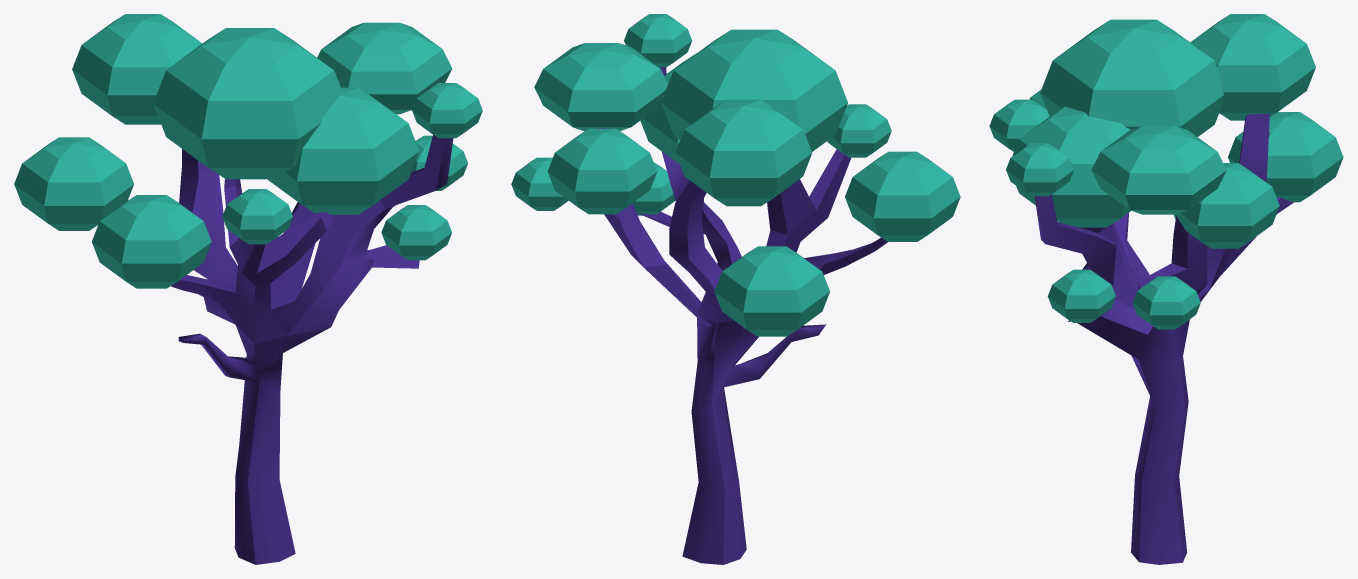
File: arbolNoche2.fbx
3 views of the same model, side by side, from view 1: azimuth 30°, elevation 25°; view 2: azimuth 150°, elevation 25°; view 3: azimuth 270°, elevation 25° (orthographic). The views are drawn at different scales.
Parts seen in each view (by area): view 1: pCube1, Sphere.002, Sphere.003, Sphere.007, Sphere, Sphere.010, Sphere.001, Sphere.006, Sphere.008, Sphere.005, Sphere.009; view 2: pCube1, Sphere.002, Sphere.007, Sphere.001, Sphere.010, Sphere, Sphere.004, Sphere.008, Sphere.006, Sphere.009, Sphere.003, Sphere.005; view 3: pCube1, Sphere.002, Sphere.001, Sphere.007, Sphere.003, Sphere.010, Sphere.004, Sphere.009, Sphere.005, Sphere.008, Sphere.006.
Part boxes in pixels (bbox=[...]): pCube1: bbox=[171, 135, 453, 564]; Sphere.002: bbox=[153, 28, 343, 179]; Sphere.003: bbox=[267, 87, 419, 214]; Sphere.007: bbox=[72, 14, 202, 124]; Sphere: bbox=[92, 195, 211, 288]; Sphere.010: bbox=[14, 137, 133, 230]; Sphere.001: bbox=[317, 22, 452, 114]; Sphere.006: bbox=[222, 189, 292, 244]; Sphere.008: bbox=[412, 83, 482, 138]; Sphere.005: bbox=[381, 205, 451, 260]; Sphere.009: bbox=[411, 135, 467, 190]; pCube1: bbox=[597, 67, 887, 564]; Sphere.002: bbox=[661, 29, 847, 151]; Sphere.007: bbox=[675, 99, 811, 206]; Sphere.001: bbox=[534, 43, 667, 131]; Sphere.010: bbox=[714, 246, 829, 336]; Sphere: bbox=[845, 151, 960, 241]; Sphere.004: bbox=[547, 128, 657, 214]; Sphere.008: bbox=[624, 14, 692, 67]; Sphere.006: bbox=[827, 104, 891, 157]; Sphere.009: bbox=[511, 157, 568, 210]; Sphere.003: bbox=[640, 53, 696, 164]; Sphere.005: bbox=[633, 162, 675, 215]; pCube1: bbox=[1034, 113, 1293, 564]; Sphere.002: bbox=[1040, 19, 1224, 136]; Sphere.001: bbox=[1091, 126, 1226, 214]; Sphere.007: bbox=[1190, 14, 1315, 120]; Sphere.003: bbox=[1012, 106, 1130, 227]; Sphere.010: bbox=[1228, 112, 1343, 202]; Sphere.004: bbox=[1174, 163, 1279, 248]; Sphere.009: bbox=[1132, 276, 1200, 329]; Sphere.005: bbox=[1047, 269, 1115, 322]; Sphere.008: bbox=[1006, 143, 1073, 196]; Sphere.006: bbox=[989, 99, 1049, 151].
Bounding box in the file's own units: 166 × 212 × 133.
